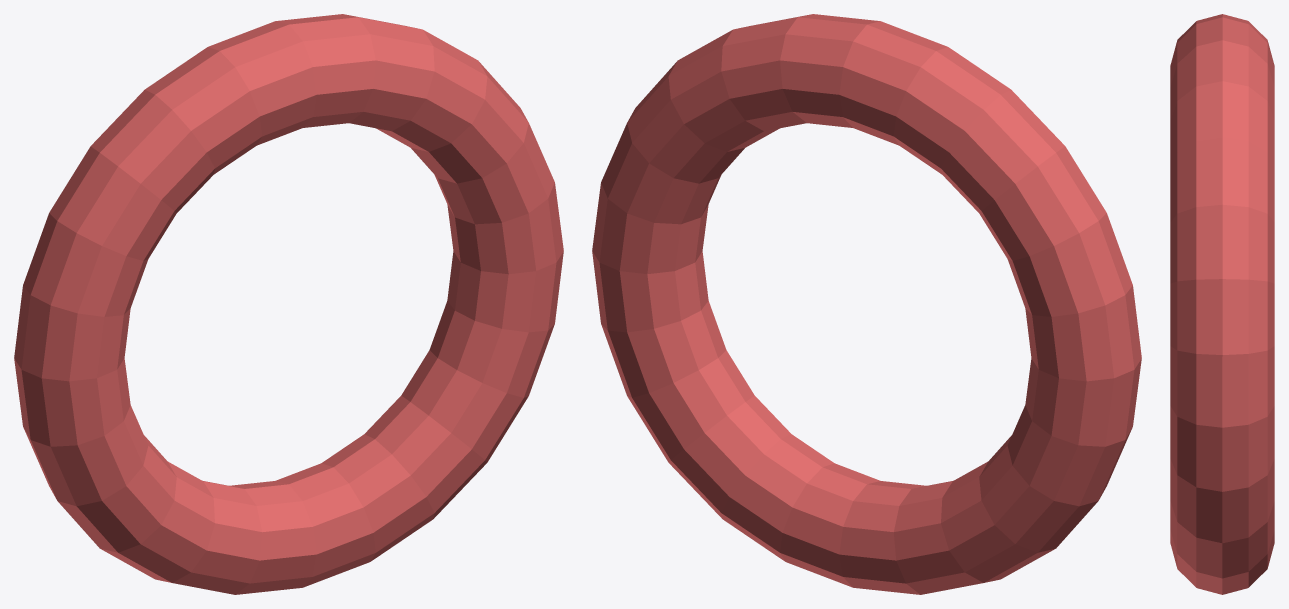
3 renders of one model, left to right at view 1: azimuth 30°, elevation 25°; view 2: azimuth 150°, elevation 25°; view 3: azimuth 270°, elevation 25°, orthographic. The views are drawn at different scales.
Visible parts, largest first — view 1: Torus01; view 2: Torus01; view 3: Torus01.
Boxes of the visible parts, x1=… form: Torus01: x1=14, y1=14, x2=563, y2=594; Torus01: x1=592, y1=14, x2=1141, y2=594; Torus01: x1=1170, y1=14, x2=1274, y2=594.
Bounding box in the file's own units: 774 × 774 × 138.
